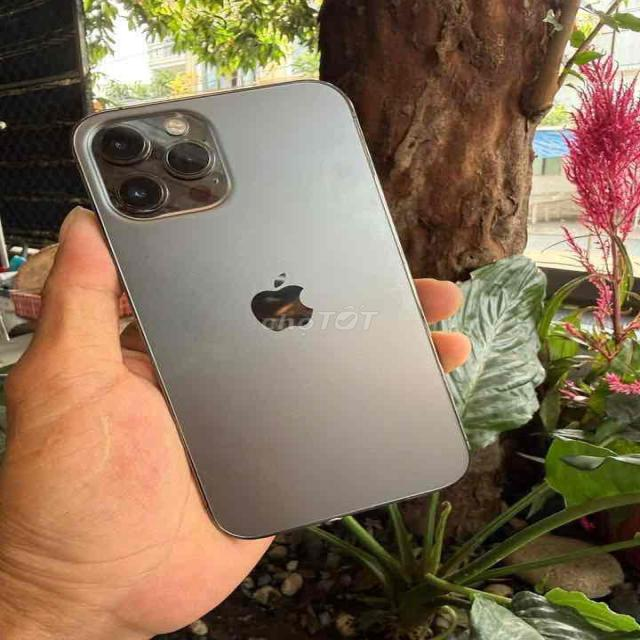gen_12_13: (64, 79, 469, 543)
